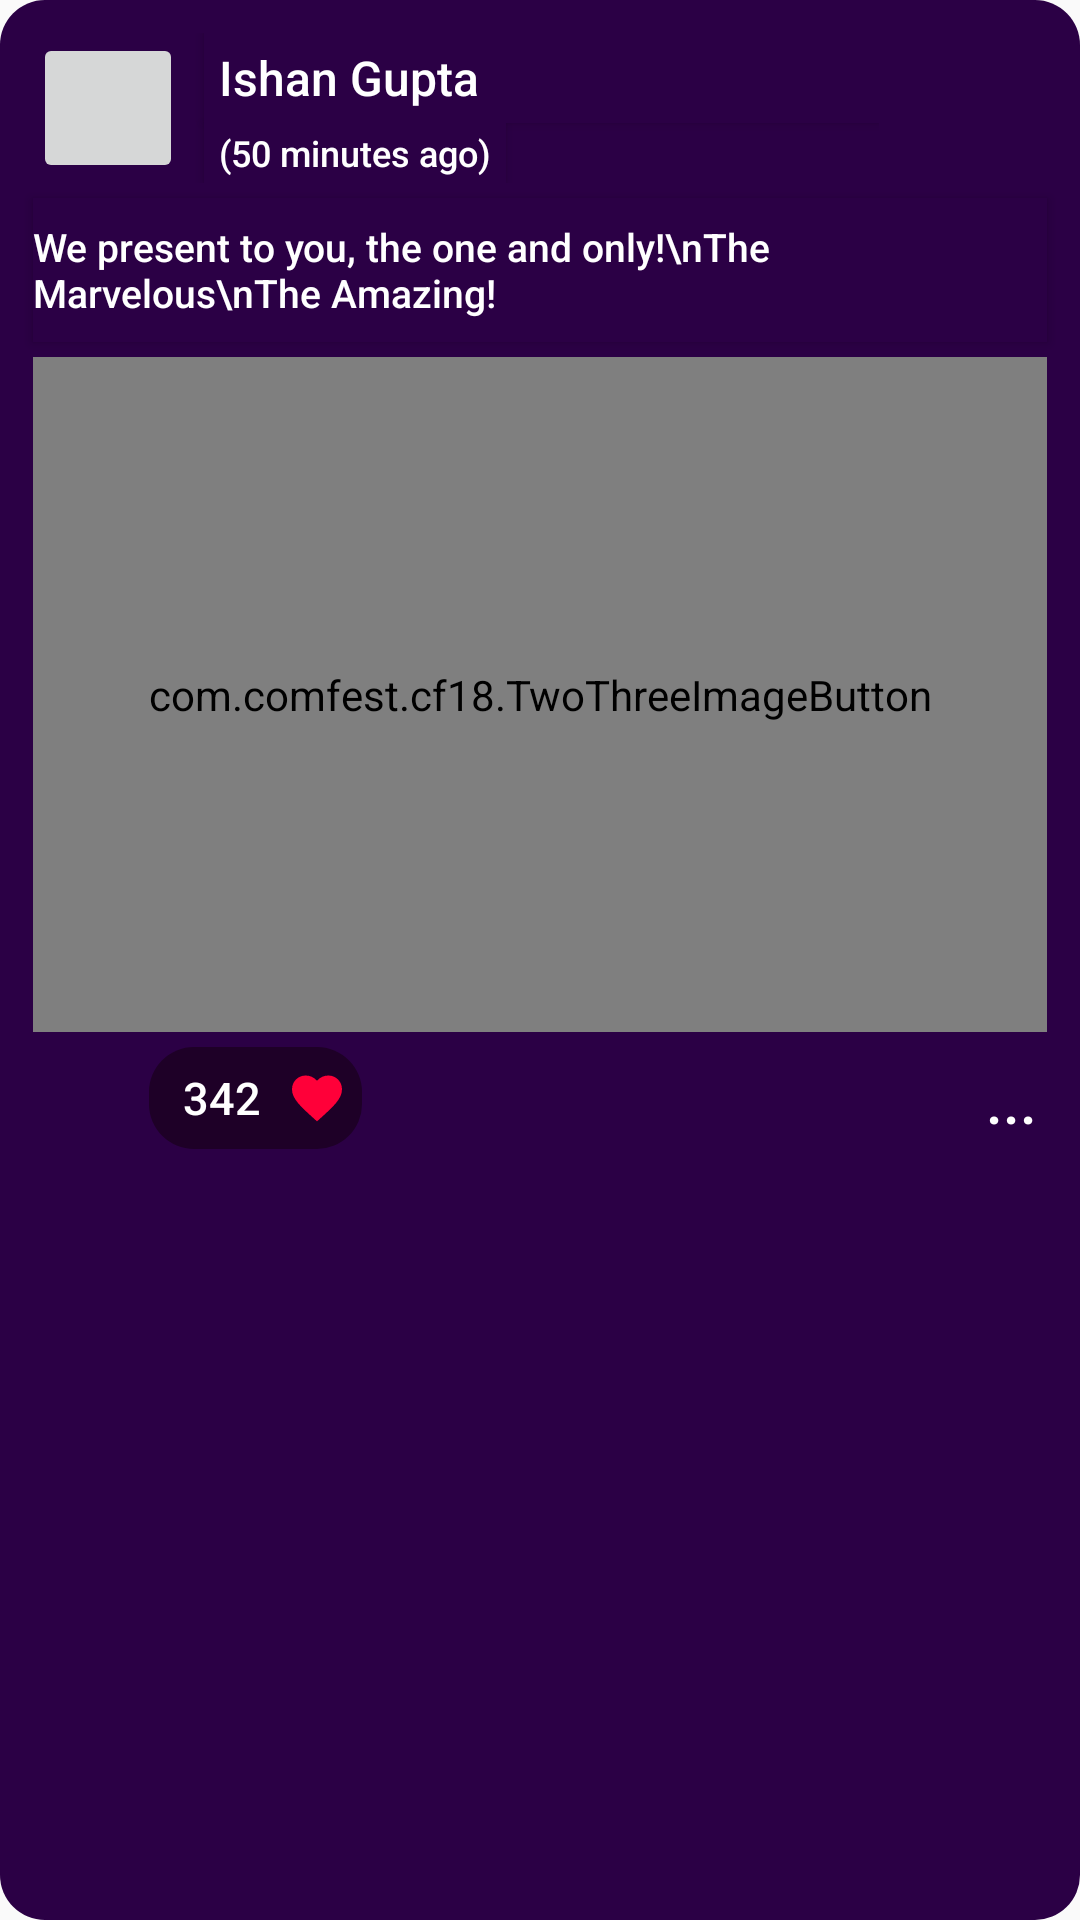

Icons on this 1080×1920 Android screen, each with the point to tap as [x,y]:
pinkheart: [317,1098]
